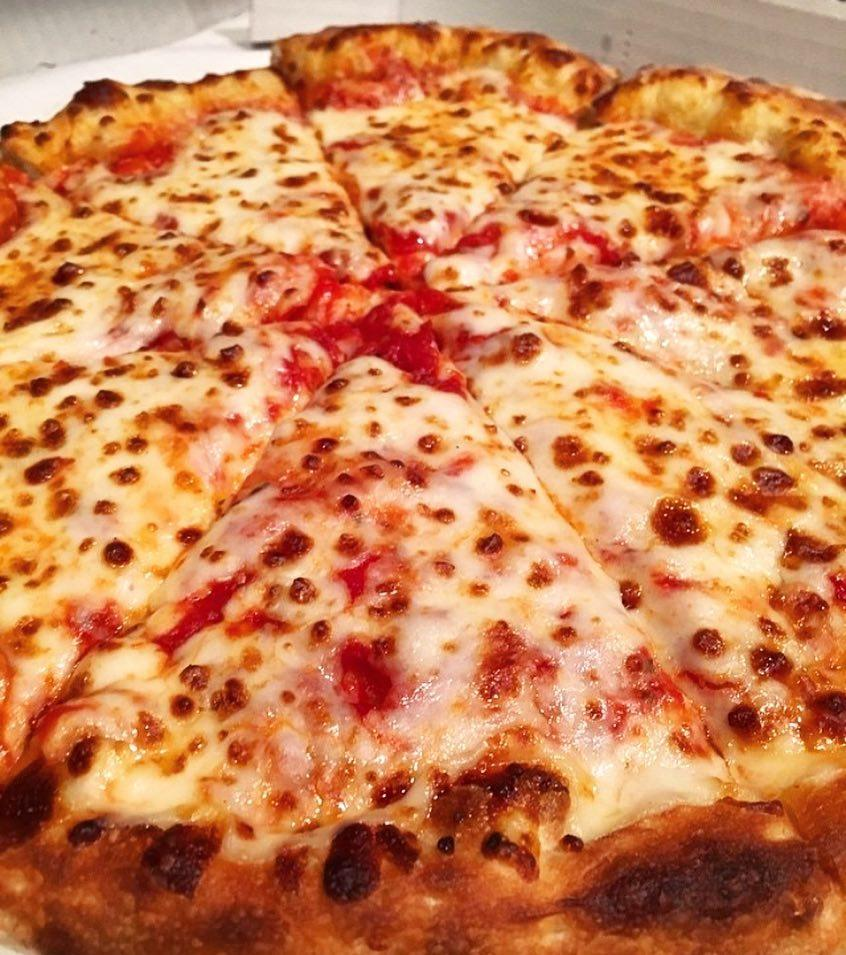Pizza: (0, 22, 846, 955)
